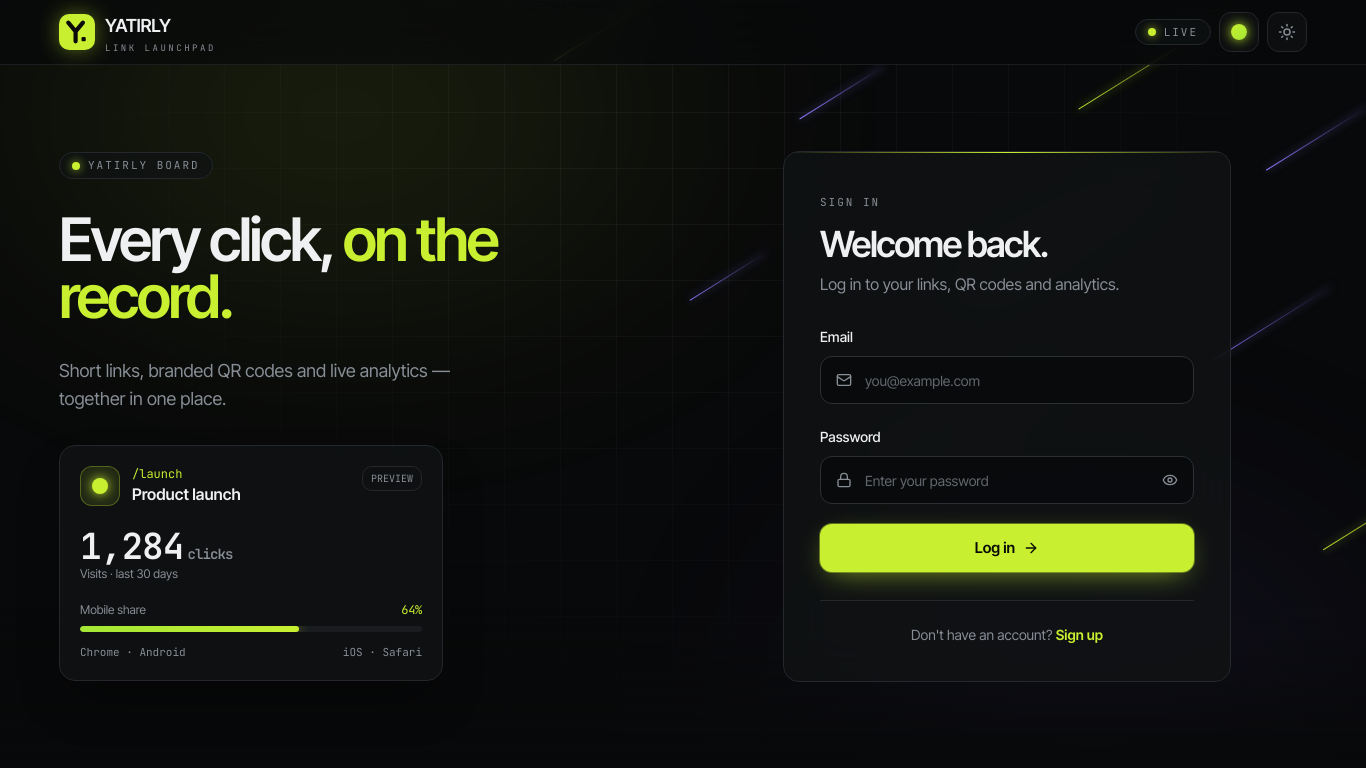
it: Login page › shows a generic message on an unexpected error
Type "jane@example.com" into the field labelled "Email".
click(1007, 380); type("jane@example.com")  # box [820,356,1194,404]
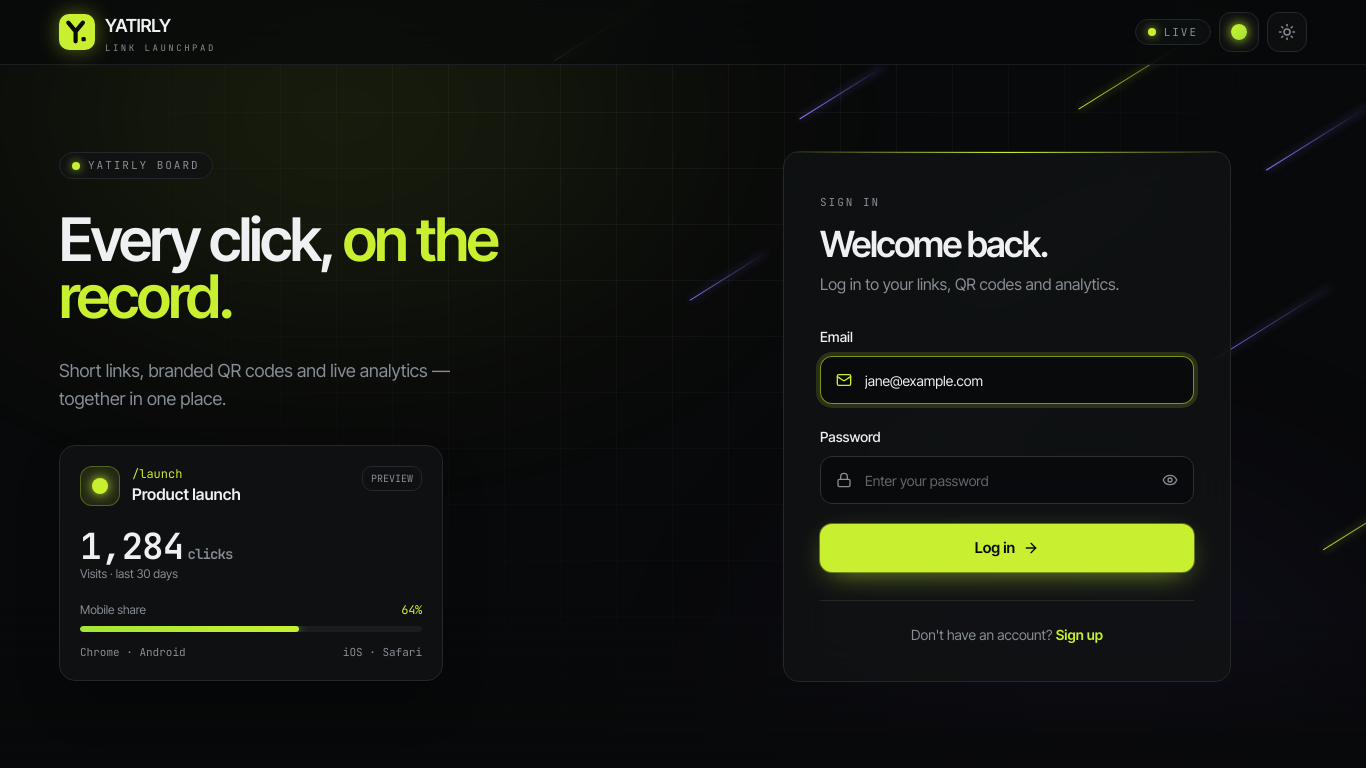
Type "secret" into the password field labelled "Password".
click(1007, 480); type("secret")  # box [820,456,1194,504]
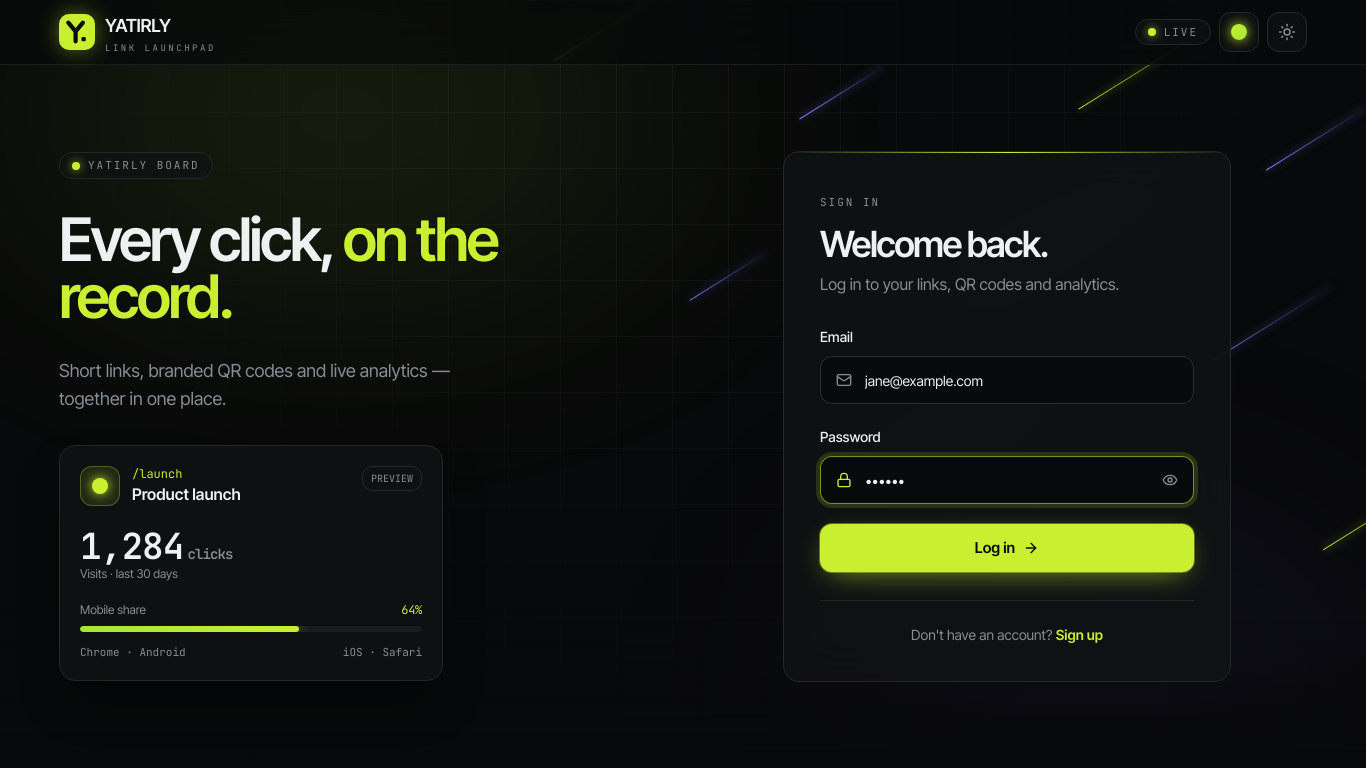
Click the button "Log in".
click(1007, 548)  # box [820,524,1194,572]
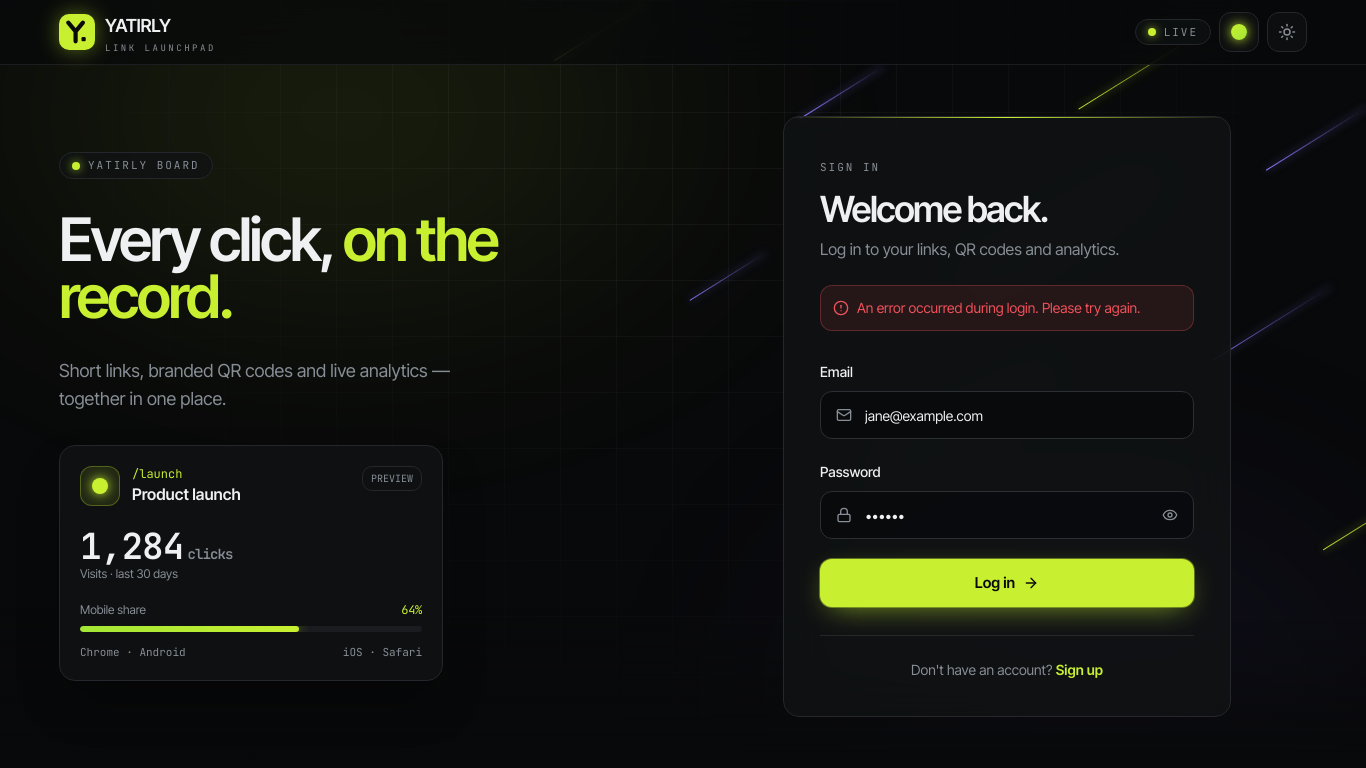
Result: the text "An error occurred during login. Please try again." is shown at [820,285,1194,331]
